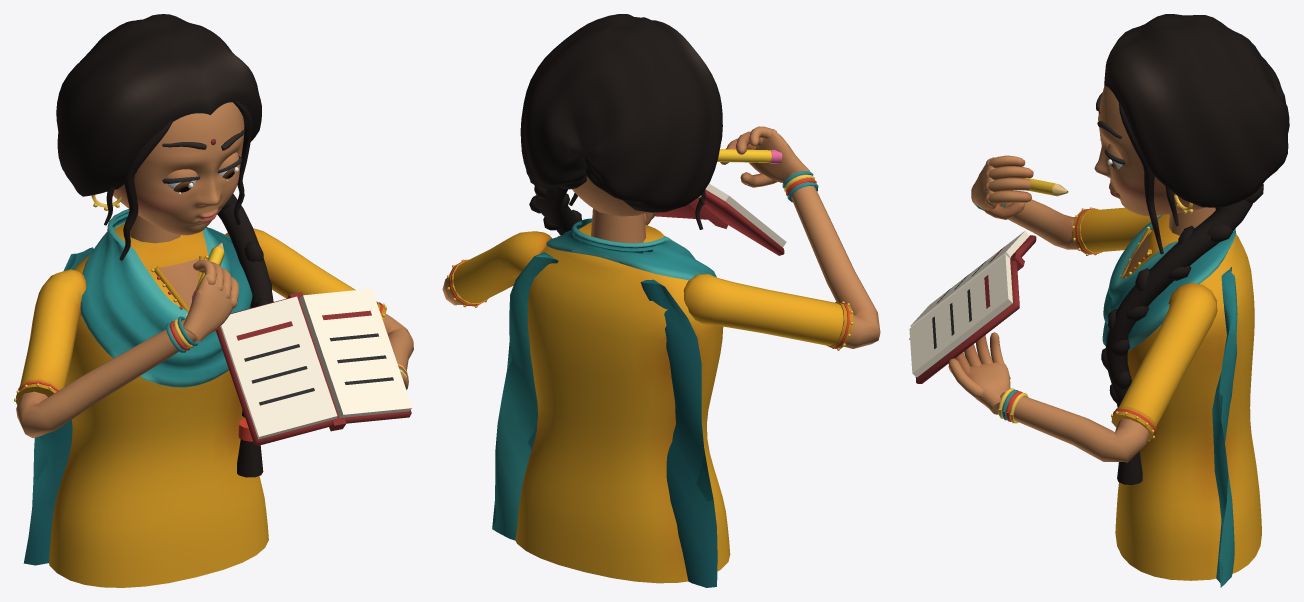
The model's file is rani_ledger.glb.
3 renders of one model, left to right at view 1: azimuth 30°, elevation 25°; view 2: azimuth 150°, elevation 25°; view 3: azimuth 270°, elevation 25°, orthographic. The views are drawn at different scales.
Parts seen in each view (by area): view 1: body, head, arm_l, arm_r; view 2: body, head, arm_r, arm_l; view 3: body, head, arm_l, arm_r.
Part boxes in pixels (x1=…): body: x1=23, y1=193, x2=273, y2=587; head: x1=56, y1=14, x2=261, y2=260; arm_l: x1=216, y1=228, x2=413, y2=445; arm_r: x1=14, y1=243, x2=238, y2=437; body: x1=492, y1=174, x2=730, y2=587; head: x1=520, y1=14, x2=722, y2=229; arm_r: x1=683, y1=126, x2=880, y2=350; arm_l: x1=442, y1=183, x2=786, y2=307; body: x1=1101, y1=184, x2=1263, y2=587; head: x1=1094, y1=14, x2=1289, y2=254; arm_l: x1=909, y1=230, x2=1217, y2=462; arm_r: x1=971, y1=155, x2=1161, y2=255.
Bounding box in the file's own units: 1.07 × 1.3 × 0.878.
1 material, 1 textured.
